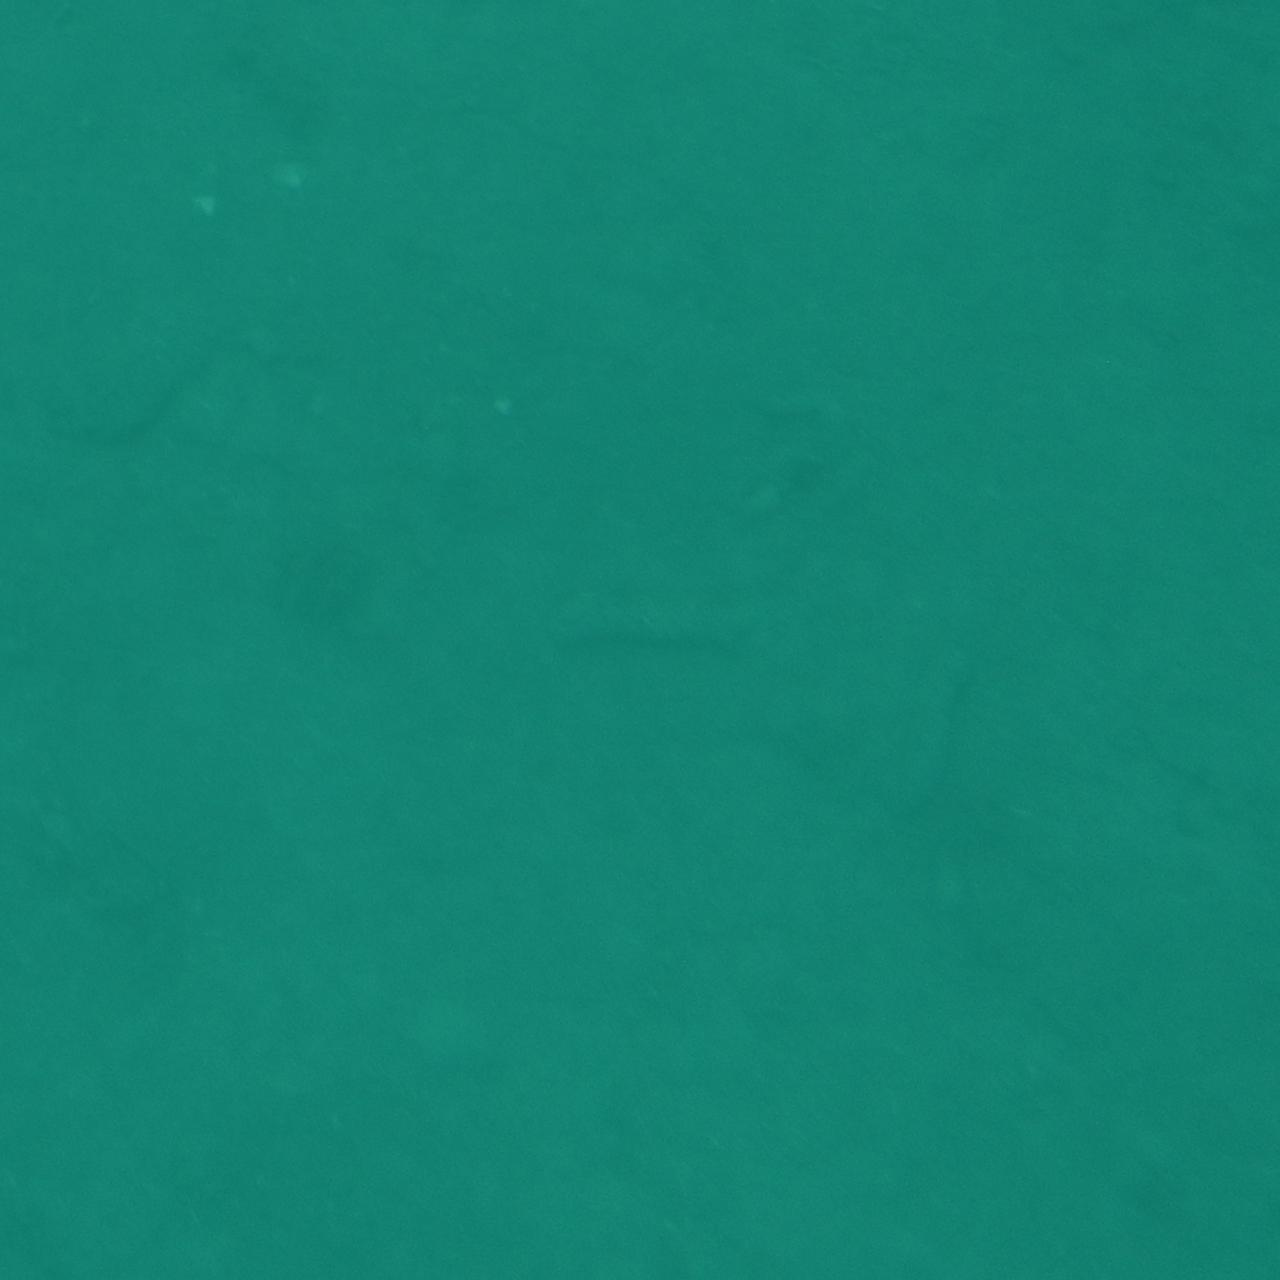Holothuria tubulosa: (506, 587, 774, 693)
